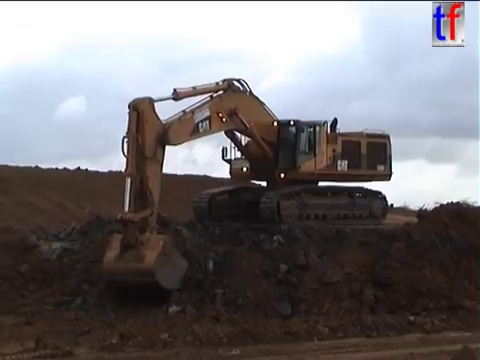excavator: (99, 75, 395, 294)
